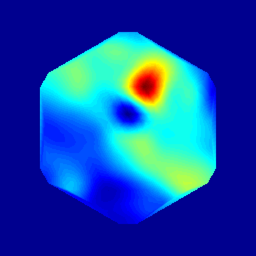ship: (119, 98, 144, 124)
wave: (129, 68, 161, 108)
